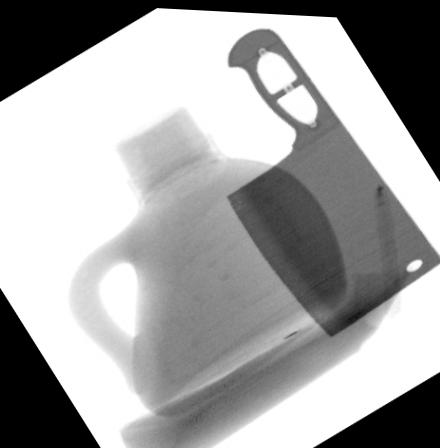Knife: (223, 24, 440, 335)
